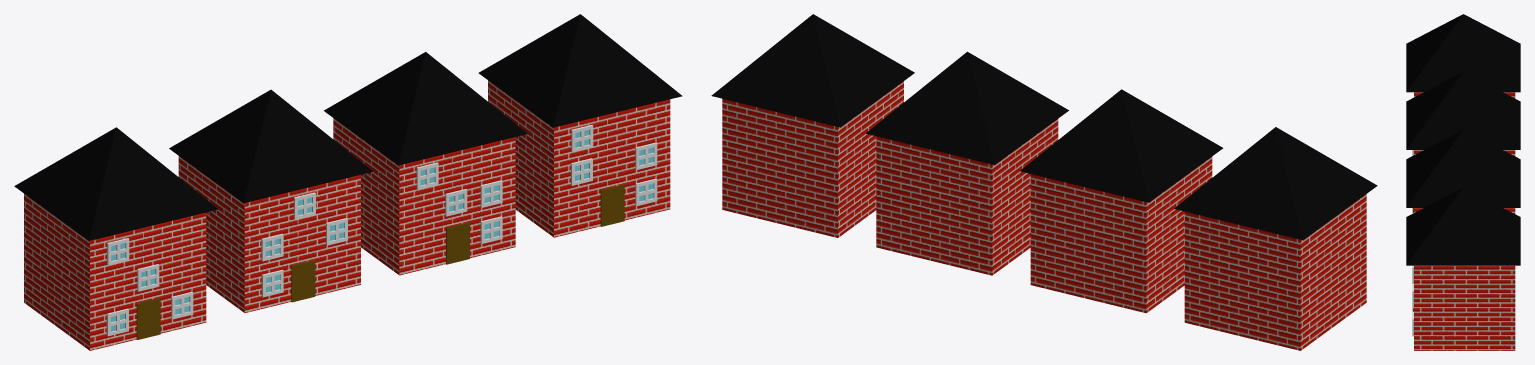
Rendered from Brick Neighborhood.fbx.
The picture shows the model from 3 angles, left to right: view 1: azimuth 30°, elevation 25°; view 2: azimuth 150°, elevation 25°; view 3: azimuth 270°, elevation 25°; orthographic projection. The views are drawn at different scales.
Visible parts, largest first — view 1: pCube27, pCube24, pCube25, pCube26; view 2: pCube27, pCube26, pCube25, pCube24; view 3: pCube24, pCube26, pCube27, pCube25.
Boxes of the visible parts, bbox=[...] form: pCube27: bbox=[14, 127, 218, 350]; pCube24: bbox=[478, 14, 682, 237]; pCube25: bbox=[324, 52, 527, 275]; pCube26: bbox=[169, 89, 372, 312]; pCube27: bbox=[1174, 127, 1377, 350]; pCube26: bbox=[1020, 89, 1223, 313]; pCube25: bbox=[865, 51, 1068, 275]; pCube24: bbox=[711, 14, 914, 237]; pCube24: bbox=[1406, 187, 1520, 350]; pCube26: bbox=[1406, 72, 1520, 212]; pCube27: bbox=[1406, 14, 1520, 98]; pCube25: bbox=[1406, 129, 1520, 213].
Size of the model in its own units: 40.87 by 12.22 by 8.93.
